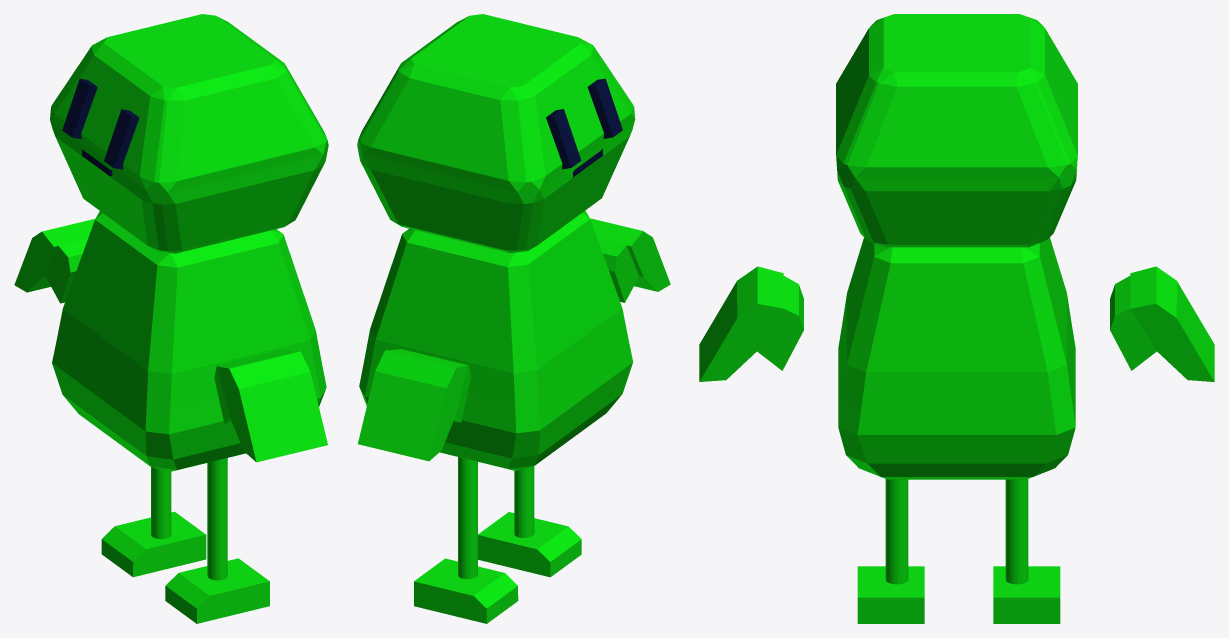
The model's file is player_green.gltf.
3 renders of one model, left to right at view 1: azimuth 30°, elevation 25°; view 2: azimuth 150°, elevation 25°; view 3: azimuth 270°, elevation 25°, orthographic. The views are drawn at different scales.
Visible parts, largest first — view 1: head, body, hand right, foot right, foot left, hand left, leg right, leg left, Cube.001, Cube.004; view 2: head, body, hand left, foot left, foot right, hand right, leg left, leg right, Cube.001, Cube.004; view 3: body, head, hand right, hand left, foot left, foot right, leg left, leg right.
Boxes of the visible parts, x1=… form: head: x1=50, y1=14, x2=328, y2=253; body: x1=52, y1=211, x2=326, y2=471; hand right: x1=214, y1=350, x2=327, y2=462; foot right: x1=165, y1=558, x2=269, y2=623; foot left: x1=101, y1=511, x2=206, y2=577; hand left: x1=14, y1=219, x2=94, y2=303; leg right: x1=207, y1=458, x2=227, y2=580; leg left: x1=151, y1=467, x2=171, y2=539; Cube.001: x1=62, y1=78, x2=97, y2=139; Cube.004: x1=104, y1=109, x2=139, y2=169; head: x1=357, y1=14, x2=635, y2=253; body: x1=359, y1=210, x2=632, y2=470; hand left: x1=358, y1=349, x2=470, y2=461; foot left: x1=414, y1=558, x2=518, y2=623; foot right: x1=478, y1=512, x2=581, y2=577; hand right: x1=590, y1=218, x2=670, y2=302; leg left: x1=458, y1=457, x2=477, y2=579; leg right: x1=514, y1=466, x2=534, y2=537; Cube.001: x1=546, y1=109, x2=581, y2=169; Cube.004: x1=587, y1=78, x2=622, y2=138; body: x1=838, y1=237, x2=1075, y2=479; head: x1=836, y1=14, x2=1077, y2=247; hand right: x1=699, y1=266, x2=803, y2=381; hand left: x1=1110, y1=266, x2=1214, y2=381; foot left: x1=993, y1=566, x2=1060, y2=623; foot right: x1=857, y1=566, x2=924, y2=623; leg left: x1=1005, y1=479, x2=1028, y2=584; leg right: x1=885, y1=479, x2=908, y2=584.
Bounding box in the file's own units: 1.82 × 4.76 × 3.95.
